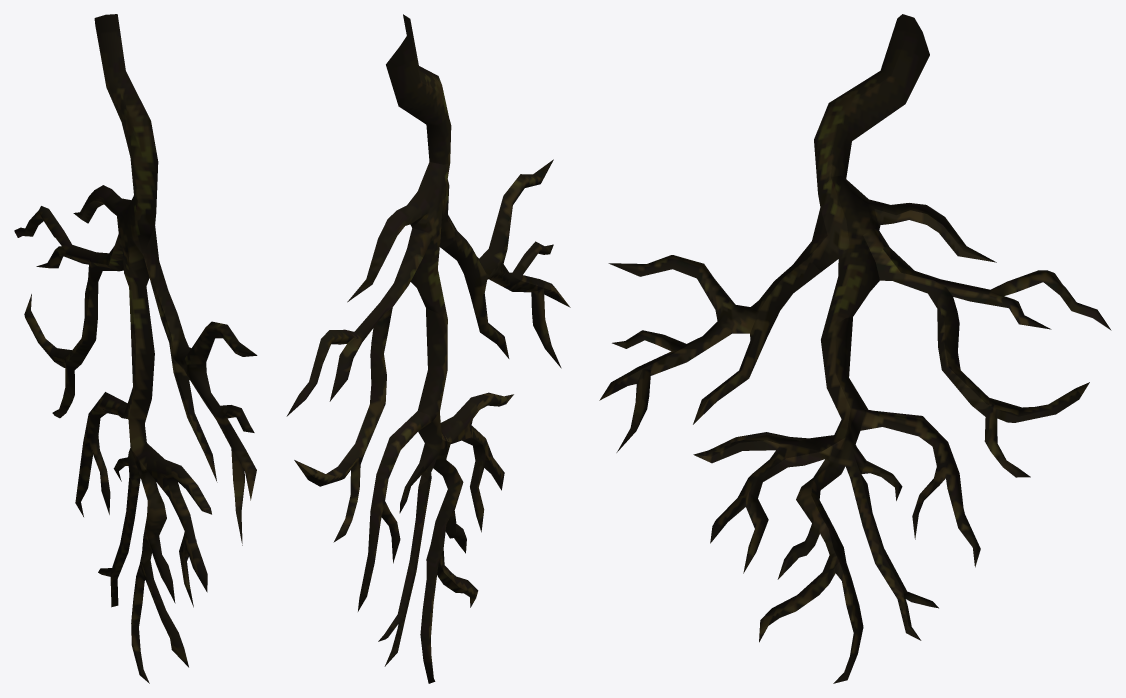
Rendered from EnvFldMD_Tree_L_Root_B.FBX.
3 views of the same model, side by side, from view 1: azimuth 30°, elevation 25°; view 2: azimuth 150°, elevation 25°; view 3: azimuth 270°, elevation 25° (orthographic). The views are drawn at different scales.
Visible parts, largest first — view 1: EnvFldMD_Tree_L_Root_B; view 2: EnvFldMD_Tree_L_Root_B; view 3: EnvFldMD_Tree_L_Root_B.
Boxes of the visible parts, x1,y1,x2,y2 form: EnvFldMD_Tree_L_Root_B: (14,14,257,683); EnvFldMD_Tree_L_Root_B: (286,14,570,683); EnvFldMD_Tree_L_Root_B: (599,14,1111,683).
Size of the model in its own units: 26.78 by 697 by 487.
Materials: 1 (1 with a texture image).
